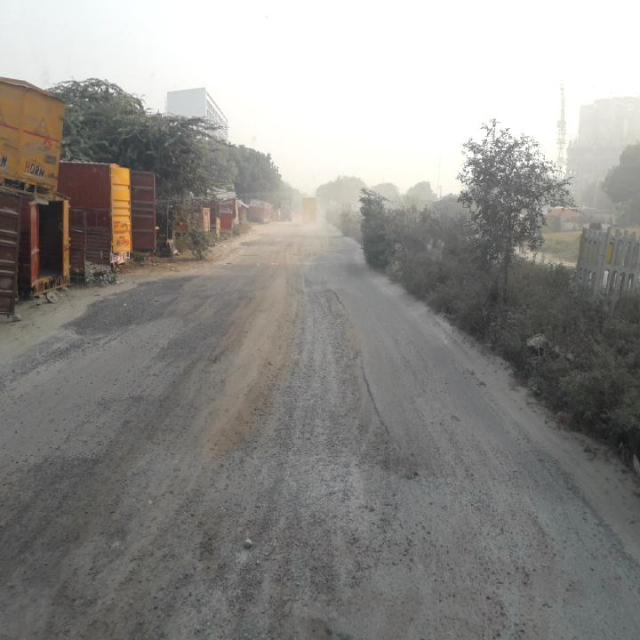Surface Erosion: (160, 179, 479, 640)
